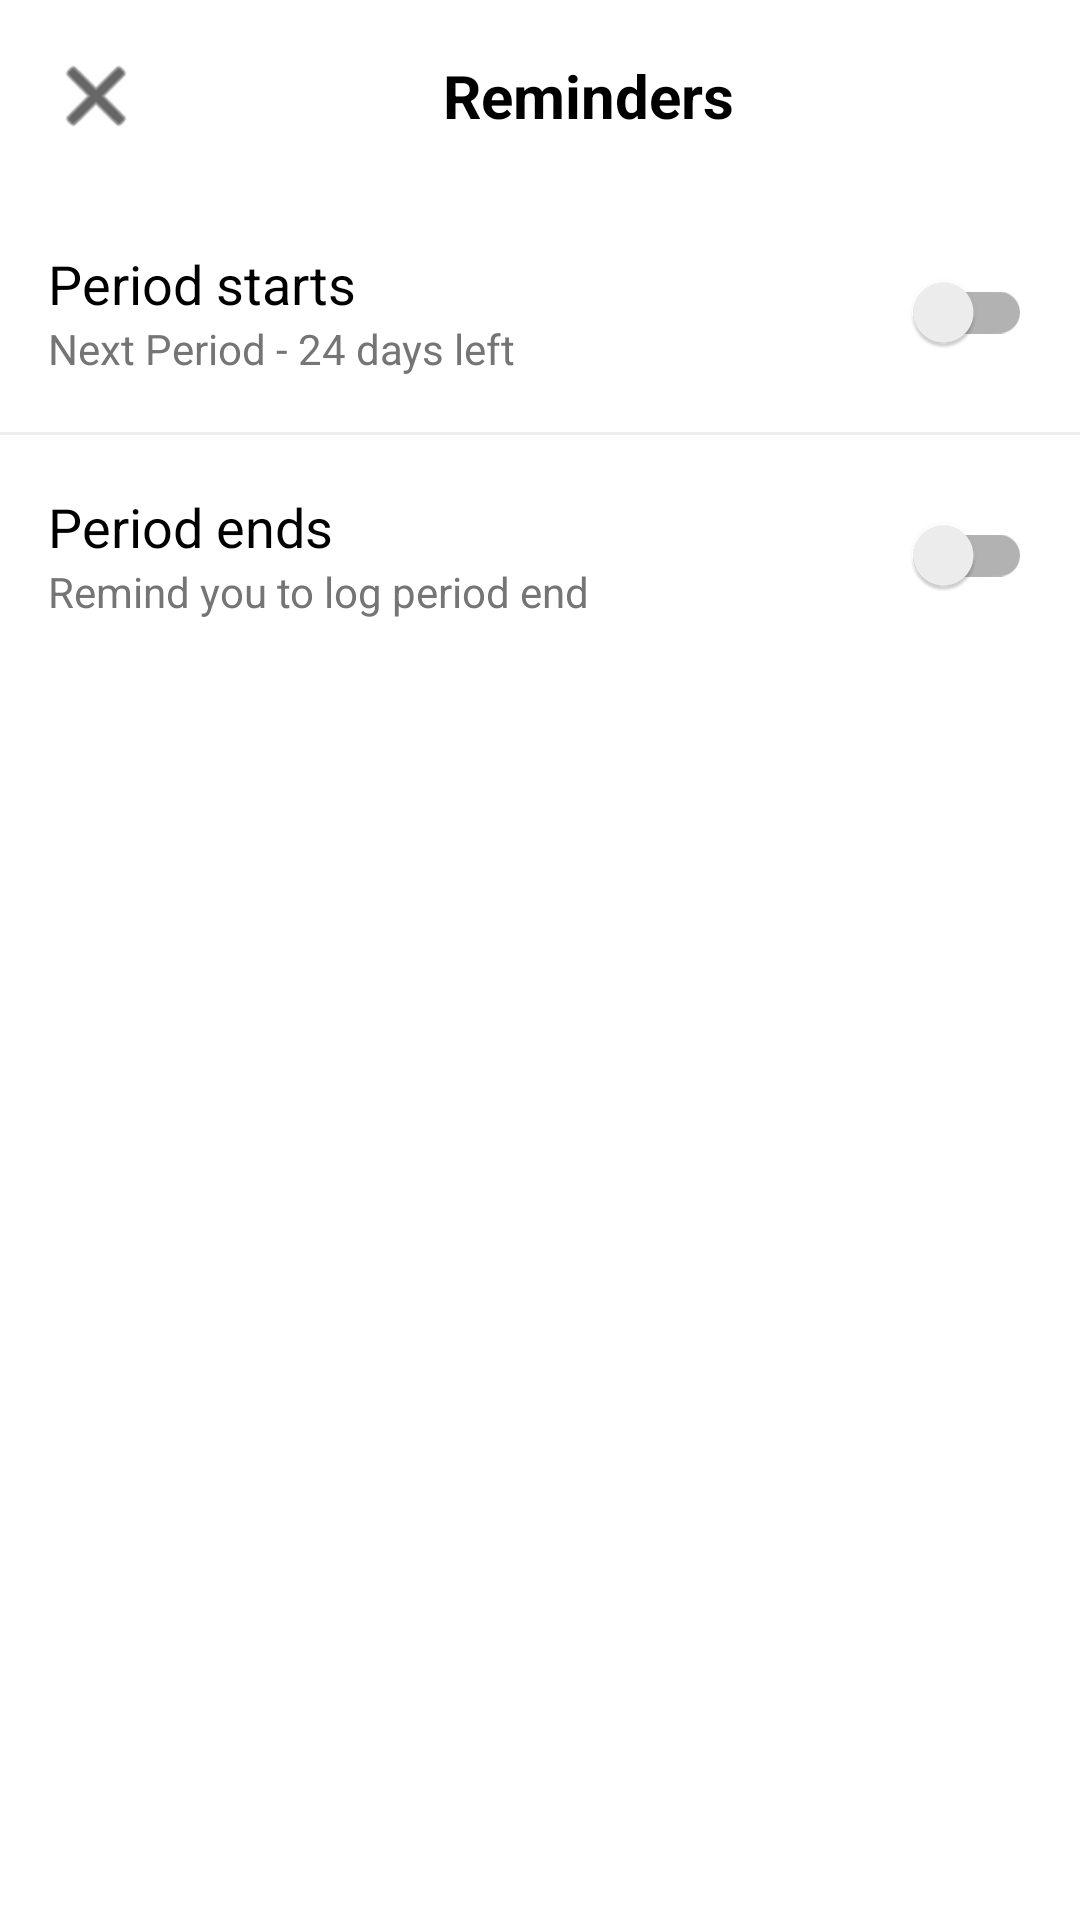

Where to tap for icons on this 1080 × 1920 app screen, as [x,y]:
close clear cancel: [96,96]
